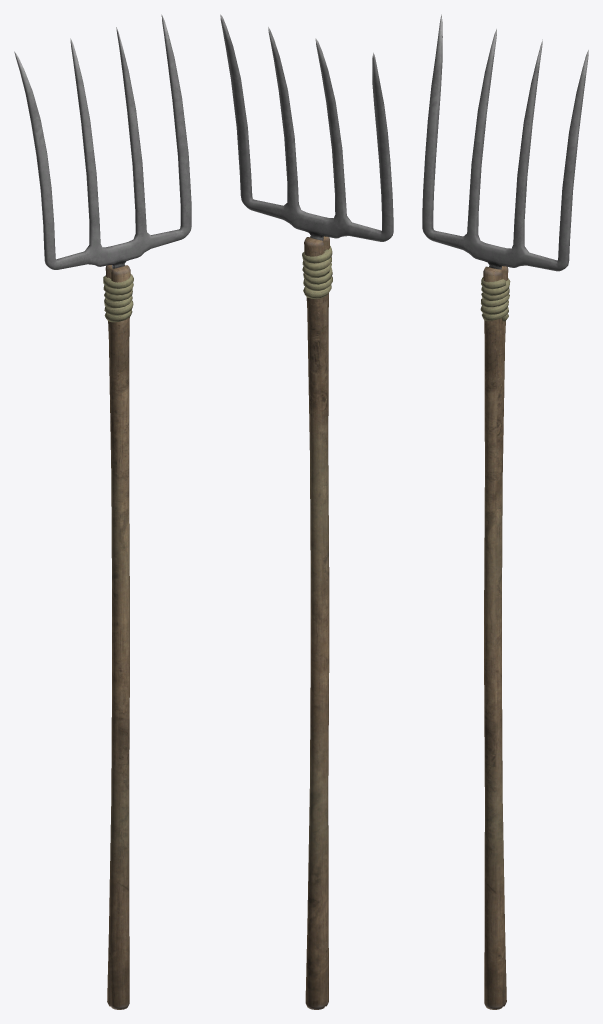
The model's file is PitchforkSpear.glb.
3 renders of one model, left to right at view 1: azimuth 30°, elevation 25°; view 2: azimuth 150°, elevation 25°; view 3: azimuth 330°, elevation 25°, orthographic. The views are drawn at different scales.
Visible parts, largest first — view 1: Pitchfork; view 2: Pitchfork; view 3: Pitchfork.
Part boxes in pixels (box(x1,y1,x2,y2)): Pitchfork: box(14, 14, 191, 1009); Pitchfork: box(220, 14, 393, 1009); Pitchfork: box(422, 14, 588, 1009).
Bounding box in the file's own units: 0.3454 × 2.07 × 0.1312.
Materials: 1 (1 with a texture image).
